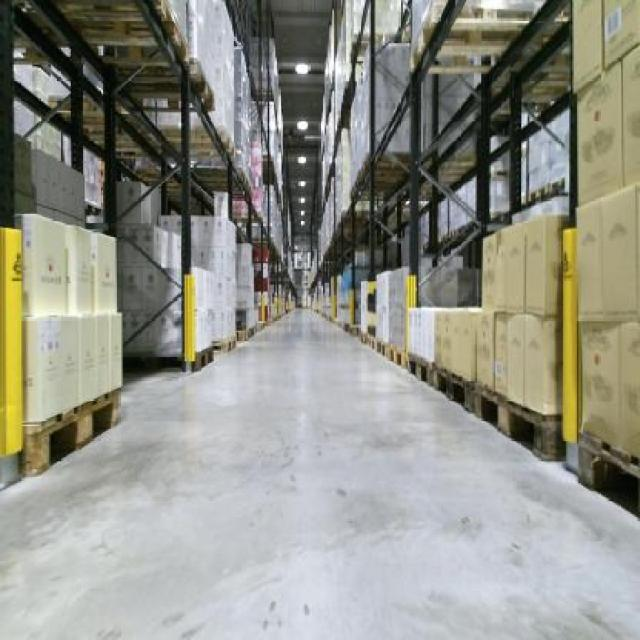pallet: (16, 376, 158, 476), (469, 372, 568, 469), (426, 357, 477, 434), (404, 350, 436, 398)
